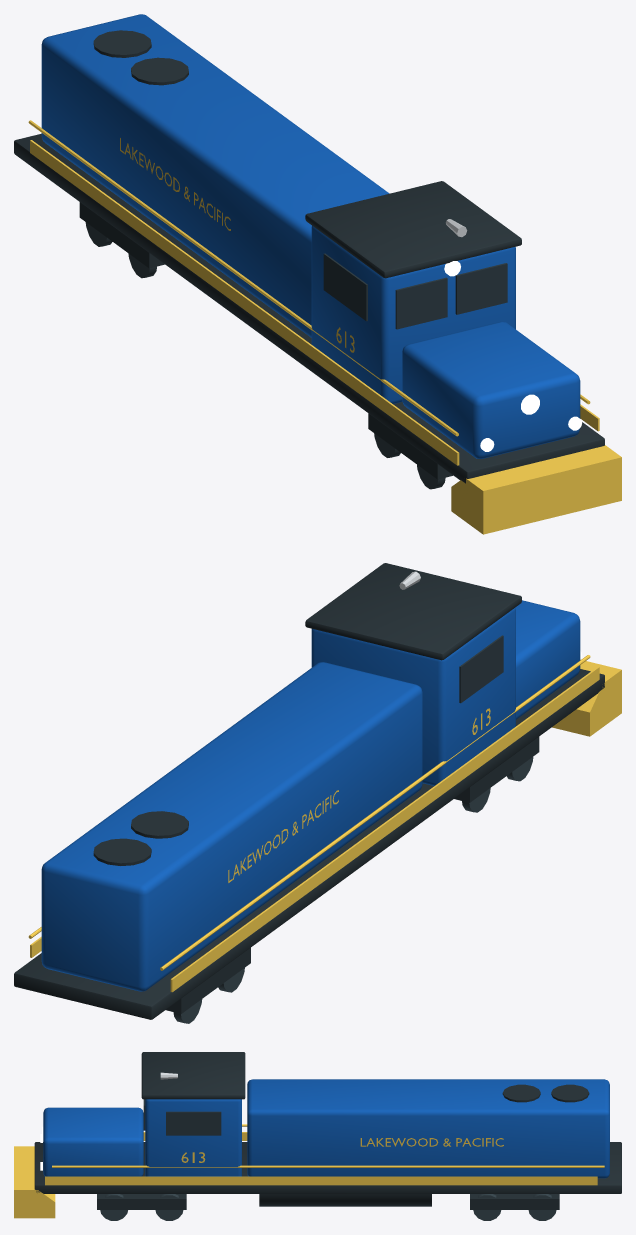
Rendered from roadevents_train_loco.glb.
The picture shows the model from 3 angles, top to bottom: view 1: azimuth 30°, elevation 25°; view 2: azimuth 150°, elevation 25°; view 3: azimuth 270°, elevation 25°; orthographic projection. The views are drawn at different scales.
Visible parts, largest first — view 1: TrainLoco; view 2: TrainLoco; view 3: TrainLoco.
Boxes of the visible parts, left/top/right/bottom form: TrainLoco: left=14, top=14, right=621, bottom=534; TrainLoco: left=14, top=563, right=621, bottom=1023; TrainLoco: left=14, top=1052, right=621, bottom=1220.
Bounding box in the file's own units: 3.08 × 4.49 × 17.6.
